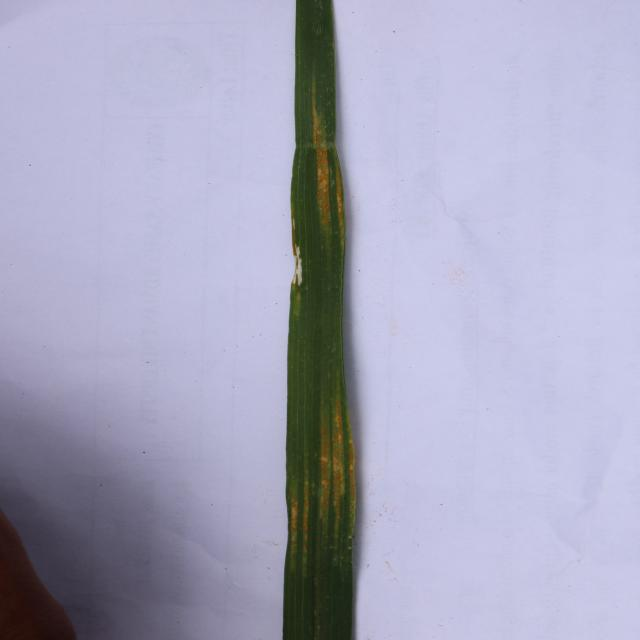Stripe Rust: (311, 79, 322, 148), (332, 469, 346, 509), (336, 398, 347, 448), (335, 170, 343, 225), (350, 442, 356, 499), (290, 495, 296, 541), (291, 217, 297, 259), (304, 493, 308, 542)
